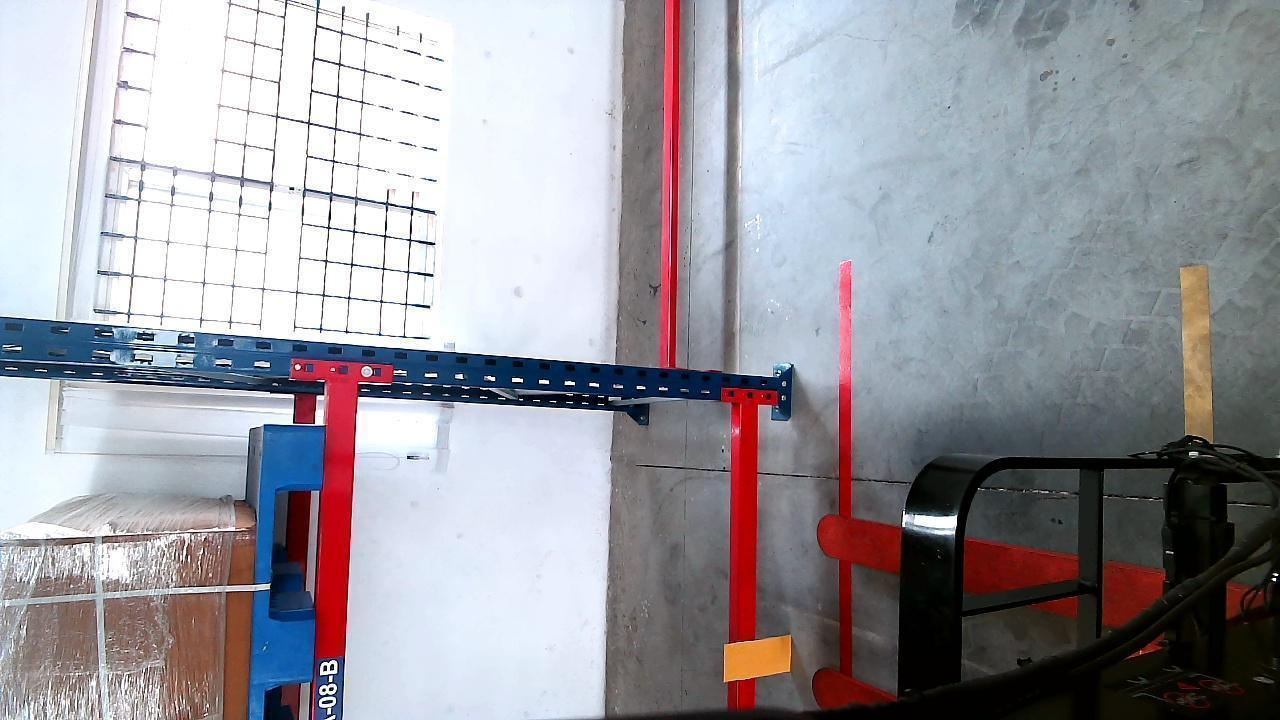red_line: (836, 260, 855, 674)
yellow_line: (1178, 263, 1214, 443)
